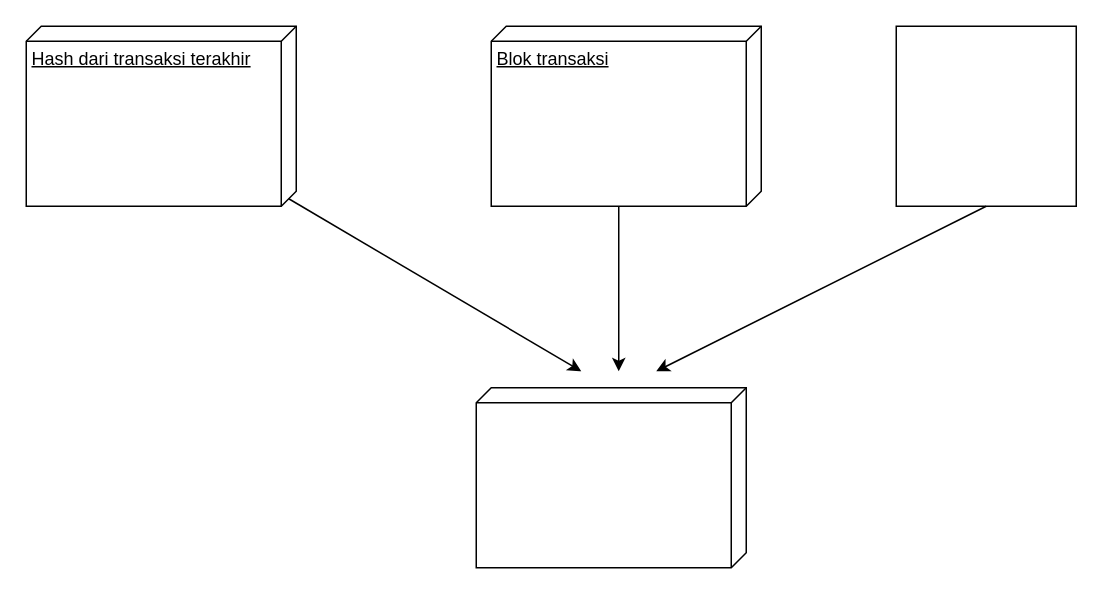
This 1103x594 diagram has some shape labels left out. Here are the shapes that lost their labels. From the top down, the box of each, then its label:
(895, 25, 1076, 206): Nonce: 1234
(475, 386, 746, 568): Hash baru 0000017669BB9D3A3372 . . .
